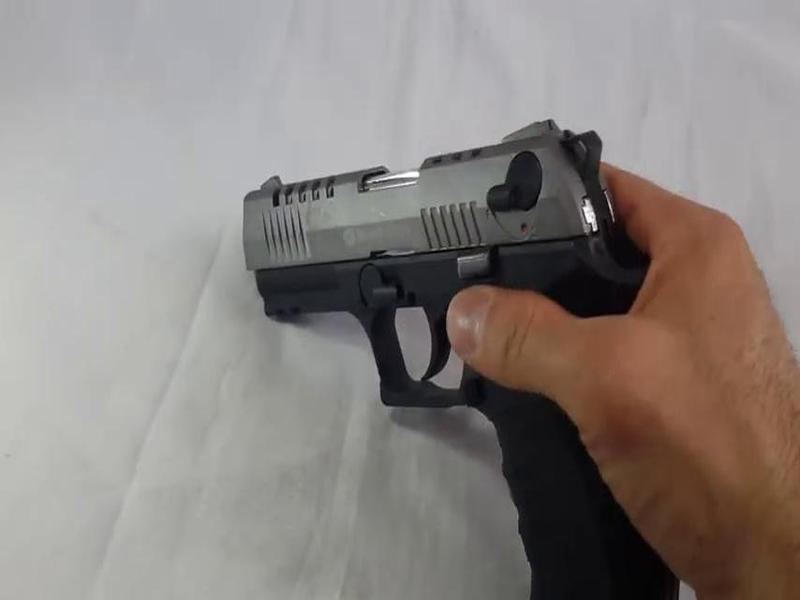Pistola: (238, 122, 679, 585)
